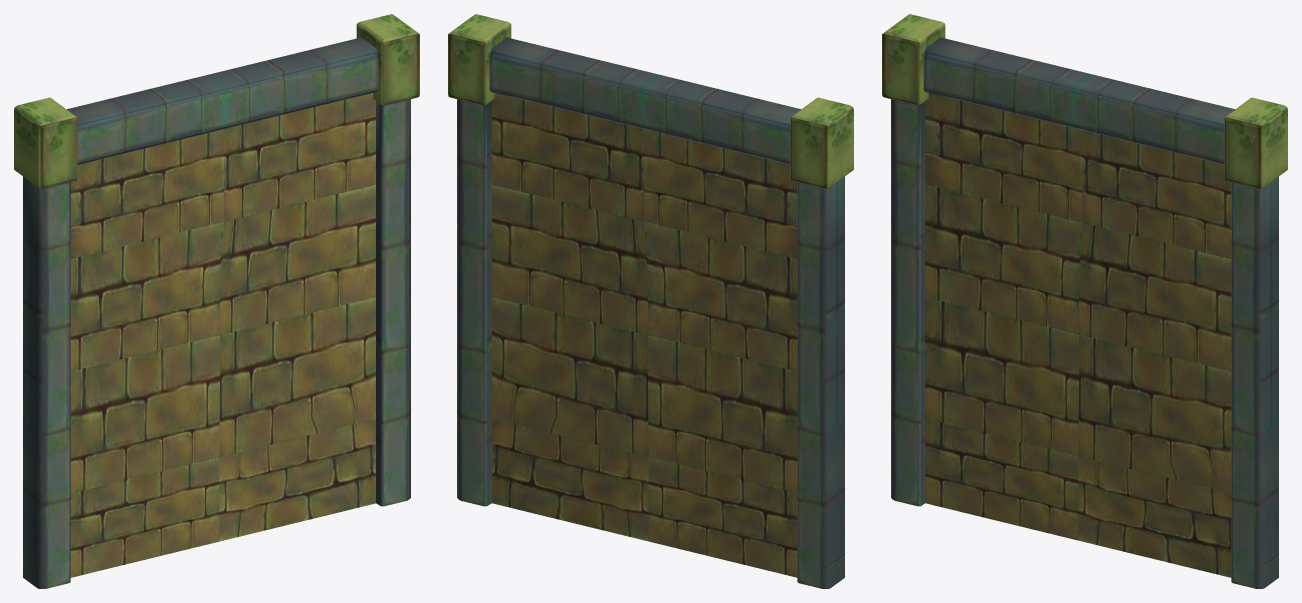
The model's file is SM_Wall.fbx.
3 renders of one model, left to right at view 1: azimuth 30°, elevation 25°; view 2: azimuth 150°, elevation 25°; view 3: azimuth 330°, elevation 25°, orthographic.
Visible parts, largest first — view 1: SM_Wall; view 2: SM_Wall; view 3: SM_Wall.
Part boxes in pixels (bbox=[...]): SM_Wall: bbox=[14, 14, 419, 588]; SM_Wall: bbox=[448, 14, 853, 588]; SM_Wall: bbox=[882, 14, 1287, 588].
Size of the model in its own units: 609 by 717 by 73.46.
